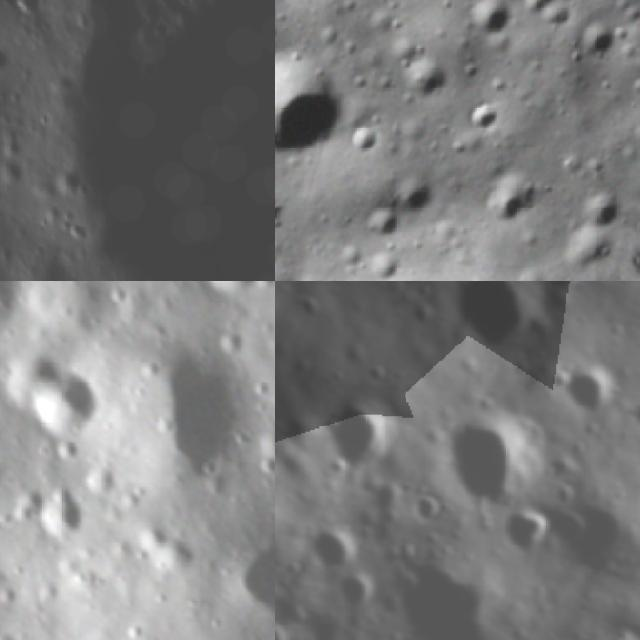crater: (30, 0, 275, 281), (102, 322, 275, 500), (15, 358, 124, 464), (275, 31, 358, 169), (130, 507, 211, 593), (225, 501, 275, 636), (444, 415, 524, 499), (0, 336, 73, 423), (24, 476, 102, 556), (334, 394, 392, 475), (455, 281, 540, 336), (379, 48, 452, 105), (0, 477, 57, 536), (482, 166, 537, 227), (179, 281, 275, 314), (457, 0, 517, 43), (570, 365, 618, 418), (308, 518, 358, 564), (457, 98, 502, 146), (508, 510, 562, 547), (579, 15, 625, 58), (578, 188, 621, 230), (247, 414, 275, 478), (111, 604, 160, 640), (361, 203, 404, 241), (338, 574, 382, 603), (417, 486, 443, 530), (350, 121, 381, 157), (58, 170, 95, 198), (295, 291, 327, 315), (275, 189, 288, 240), (13, 0, 45, 19), (0, 47, 19, 79), (408, 302, 435, 324)
